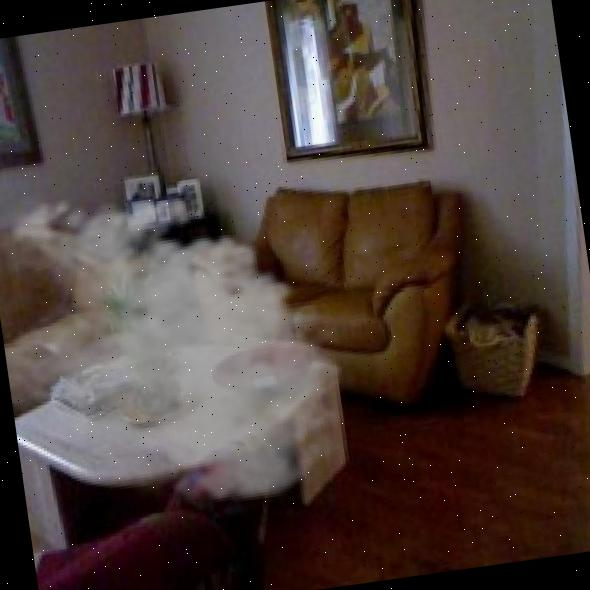smoke: (0, 153, 370, 540)
